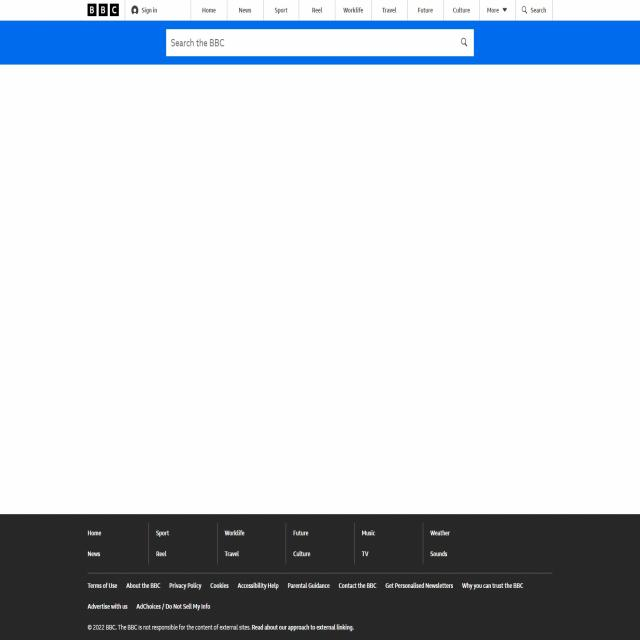menu-panel: (84, 519, 455, 568)
search: (161, 23, 478, 60)
